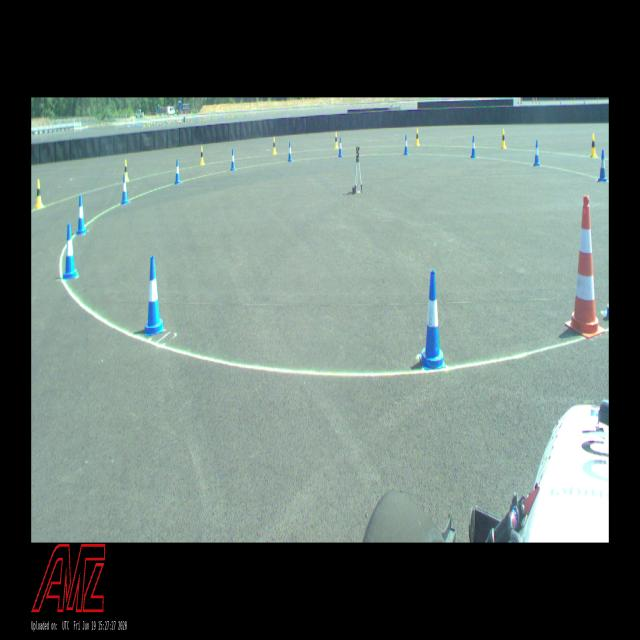blue_cone: (420, 269, 446, 369), (144, 256, 165, 332), (62, 225, 78, 280), (76, 195, 88, 234), (597, 150, 608, 182), (120, 174, 130, 204), (532, 140, 540, 166), (175, 158, 182, 184), (230, 149, 236, 171), (470, 136, 476, 158), (338, 136, 343, 158), (288, 142, 292, 163), (404, 135, 408, 155)
large_orange_cone: (566, 194, 606, 338)
yellow_cone: (34, 180, 44, 208), (590, 134, 596, 157), (500, 129, 506, 148), (123, 160, 128, 179), (415, 130, 420, 146), (200, 146, 204, 166), (334, 132, 339, 148), (272, 136, 276, 154)
